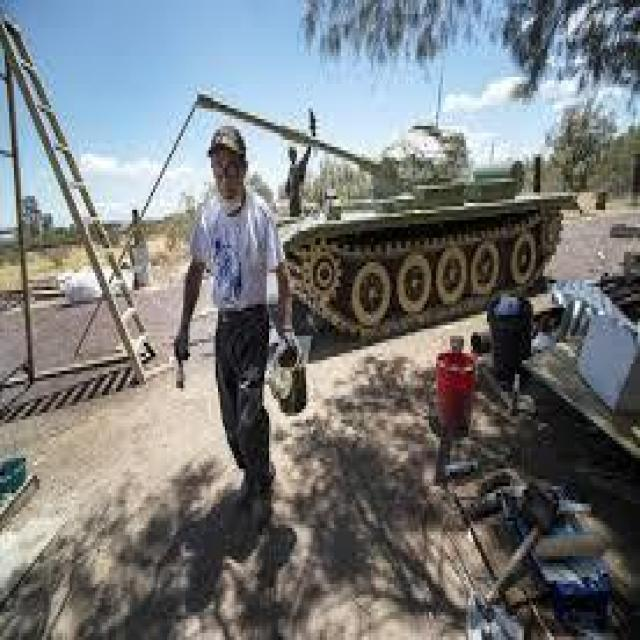MIL_MBT: (139, 28, 573, 409)
